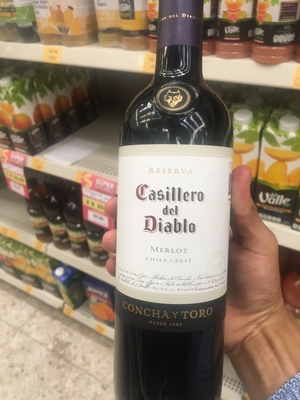casillero del diablo merlot: (110, 19, 235, 400)
